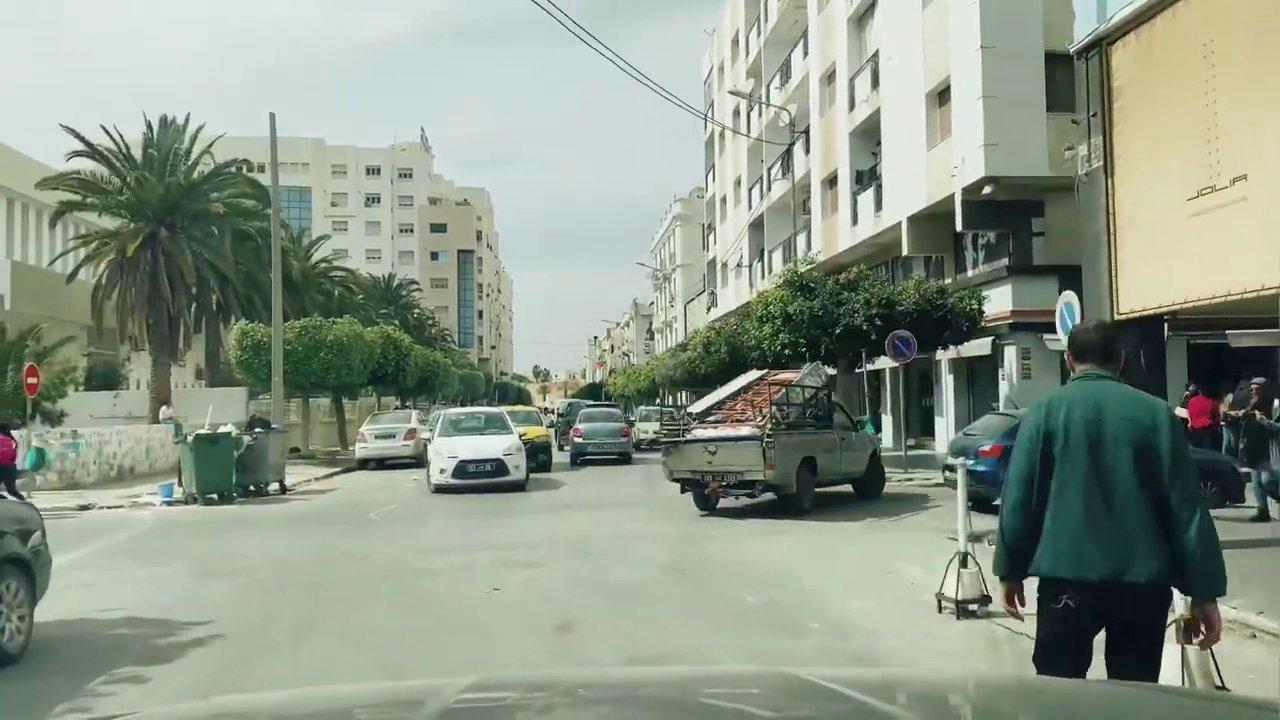no entry: (22, 358, 43, 402)
no parking: (1052, 289, 1085, 344), (884, 328, 918, 363)
